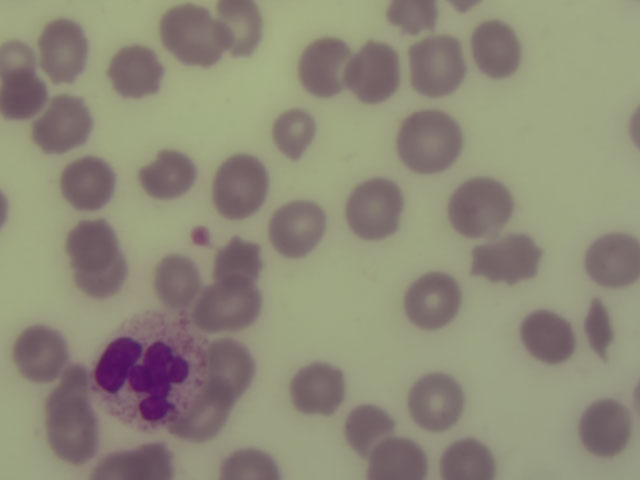Platelets: (187, 218, 216, 253)
RBC: (470, 234, 542, 286), (68, 226, 120, 289), (96, 437, 167, 480), (366, 434, 429, 480), (405, 273, 457, 327), (343, 397, 395, 451), (46, 408, 98, 462), (348, 182, 400, 236), (179, 392, 231, 446), (202, 281, 254, 335), (150, 254, 202, 308), (292, 358, 344, 412), (271, 200, 323, 254), (411, 374, 463, 428), (211, 159, 263, 213), (138, 145, 190, 199), (57, 154, 109, 208), (271, 104, 323, 158), (402, 113, 454, 167), (454, 181, 506, 235), (579, 398, 631, 452), (521, 306, 573, 360), (574, 303, 626, 357), (588, 233, 640, 287), (469, 21, 521, 75), (410, 38, 462, 92), (348, 45, 400, 99), (167, 6, 219, 60), (36, 94, 88, 148), (35, 21, 87, 75), (211, 1, 263, 54), (13, 325, 63, 380), (42, 360, 87, 421), (436, 436, 497, 480), (297, 40, 348, 92), (111, 46, 159, 99), (210, 337, 256, 392), (215, 235, 263, 280), (1, 69, 43, 118), (219, 446, 278, 480), (385, 1, 443, 35), (1, 38, 34, 83)
WBC: (95, 313, 200, 427)
